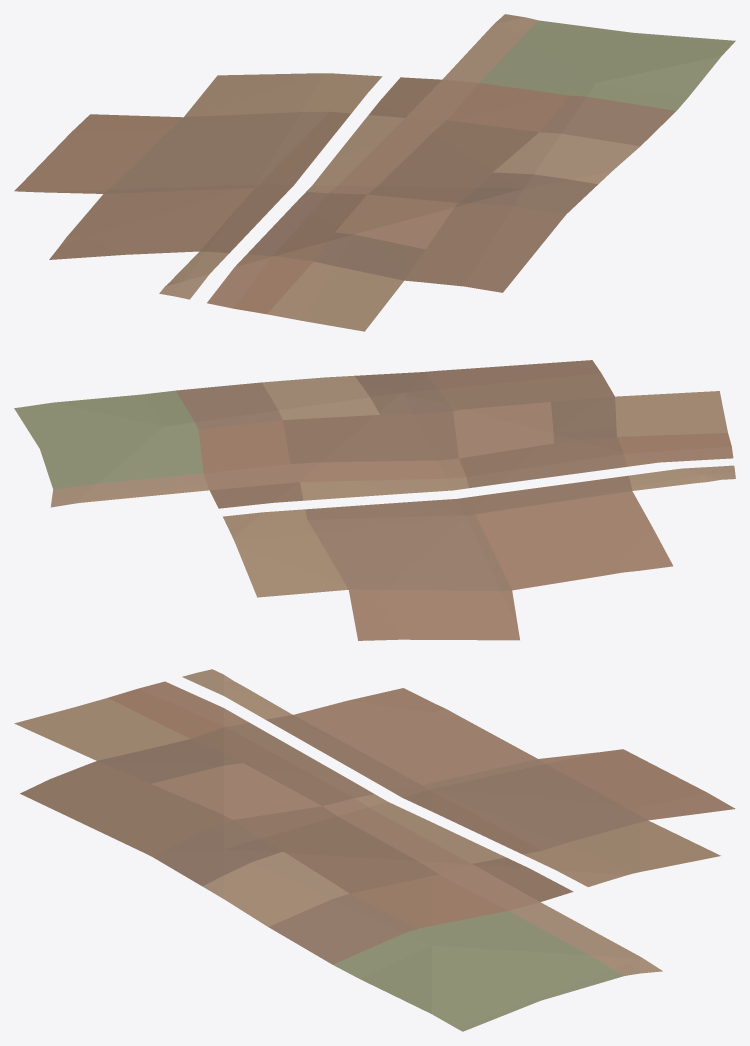
The model's file is farm_12_23_soil.glb.
3 views of the same model, one above another, from view 1: azimuth 30°, elevation 25°; view 2: azimuth 150°, elevation 25°; view 3: azimuth 270°, elevation 25° (orthographic). The views are drawn at different scales.
Parts seen in each view (by area): view 1: geometry_0; view 2: geometry_0; view 3: geometry_0.
Part boxes in pixels (x1,y1,x2,y2): geometry_0: (14,14,735,331); geometry_0: (14,360,735,640); geometry_0: (14,669,735,1031).
Bounding box in the file's own units: 336 × 28 × 278.
